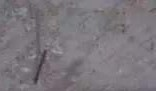Exposed reinforcement: (33, 49, 47, 86)
